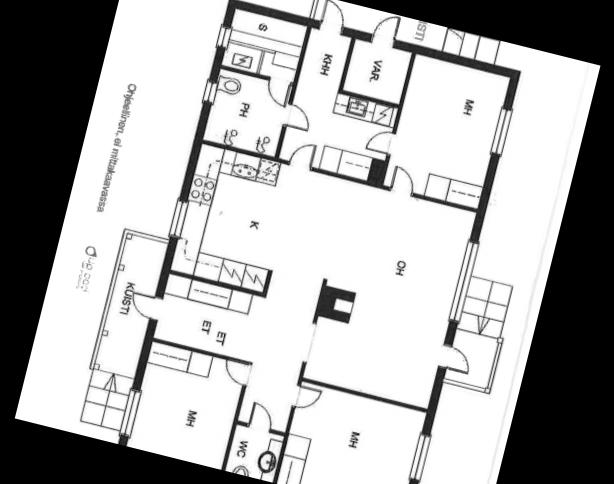door: (313, 0, 351, 38), (368, 10, 404, 50), (385, 163, 420, 201), (125, 288, 161, 324), (436, 343, 473, 378), (245, 399, 278, 436), (361, 124, 396, 158), (260, 75, 292, 109), (218, 358, 253, 389), (286, 137, 318, 170), (282, 102, 314, 134), (290, 383, 322, 414)
window: (442, 233, 484, 327), (485, 102, 516, 162), (402, 428, 435, 484), (118, 384, 144, 442), (164, 195, 191, 244), (213, 19, 235, 54), (198, 76, 220, 108)
